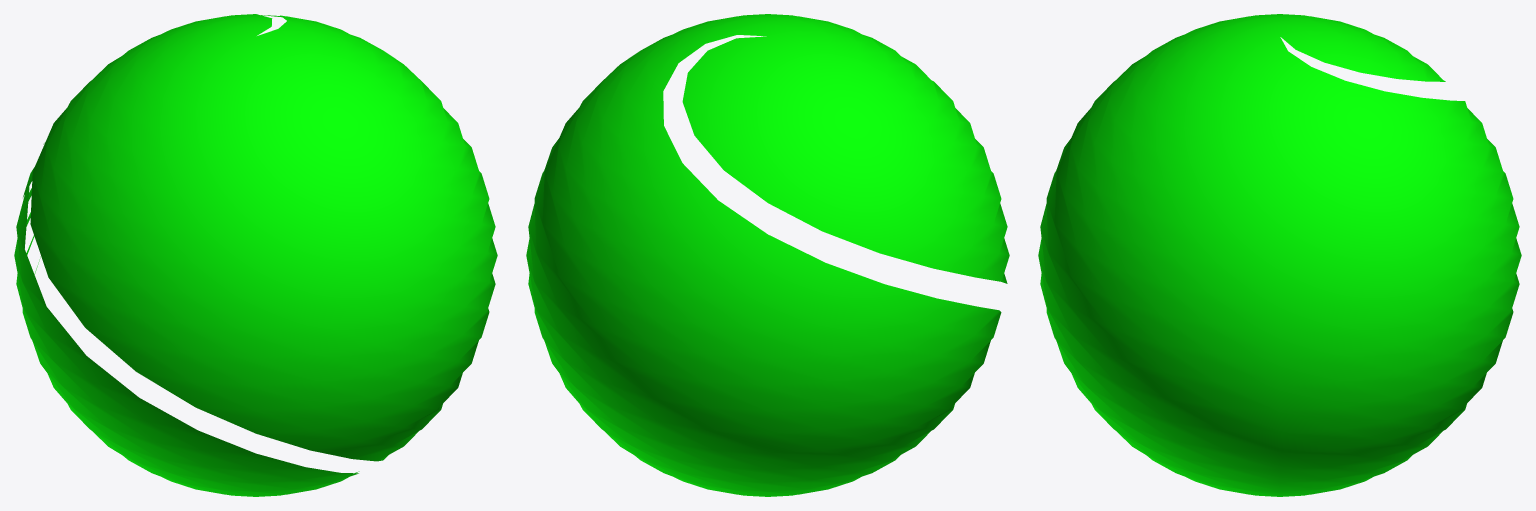
3 views of the same model, side by side, from view 1: azimuth 30°, elevation 25°; view 2: azimuth 150°, elevation 25°; view 3: azimuth 270°, elevation 25° (orthographic).
Size of the model in its own units: 2.2 by 2.19 by 2.2.
